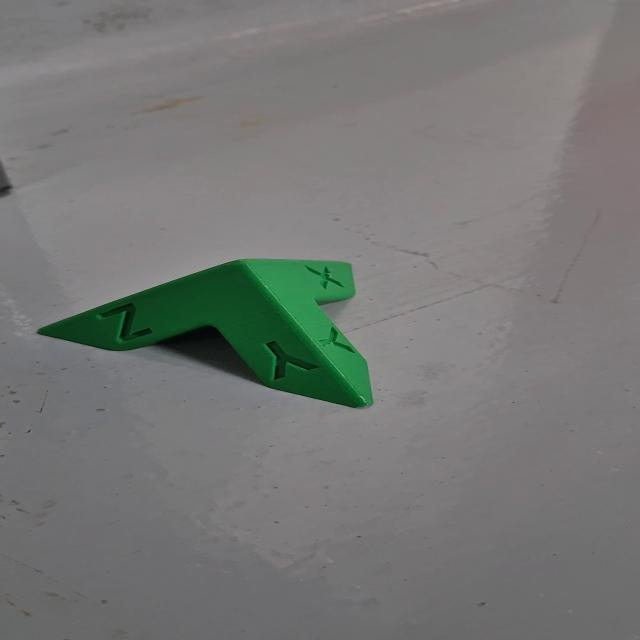objects: (27, 253, 391, 415)
